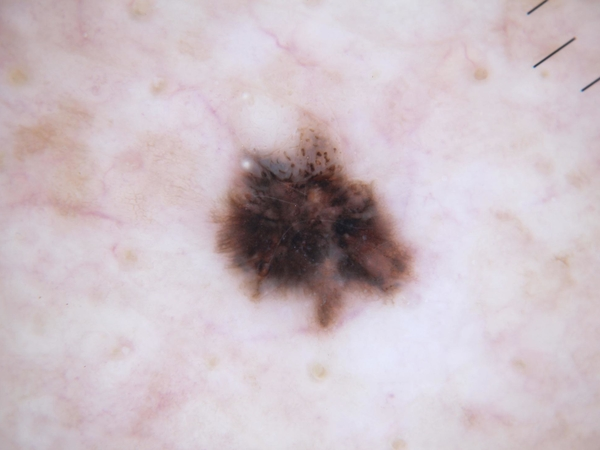Detected Lesion: (202, 111, 424, 339)
